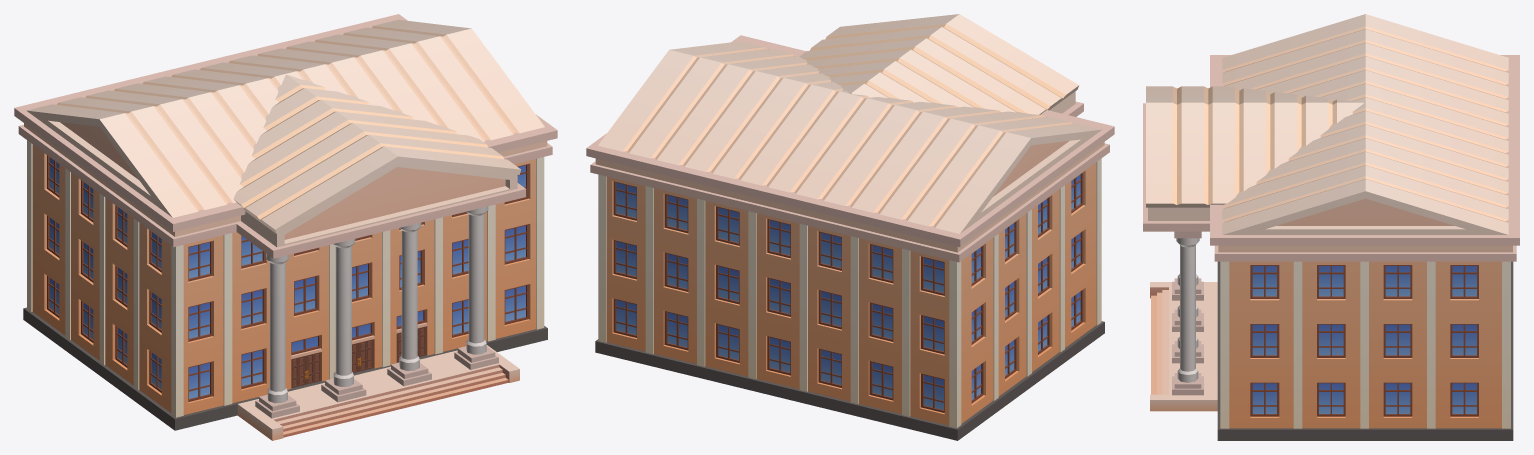
Rendered from government_bilding_001.glb.
The picture shows the model from 3 angles, left to right: view 1: azimuth 30°, elevation 25°; view 2: azimuth 150°, elevation 25°; view 3: azimuth 270°, elevation 25°; orthographic projection. The views are drawn at different scales.
Parts seen in each view (by area): view 1: government_bilding_001; view 2: government_bilding_001; view 3: government_bilding_001.
Part boxes in pixels (x1,y1,x2,y2): government_bilding_001: (14,14,557,440); government_bilding_001: (586,14,1114,440); government_bilding_001: (1143,14,1519,440).
Size of the model in its own units: 30.08 by 19.12 by 26.16.
Materials: 1 (1 with a texture image).
